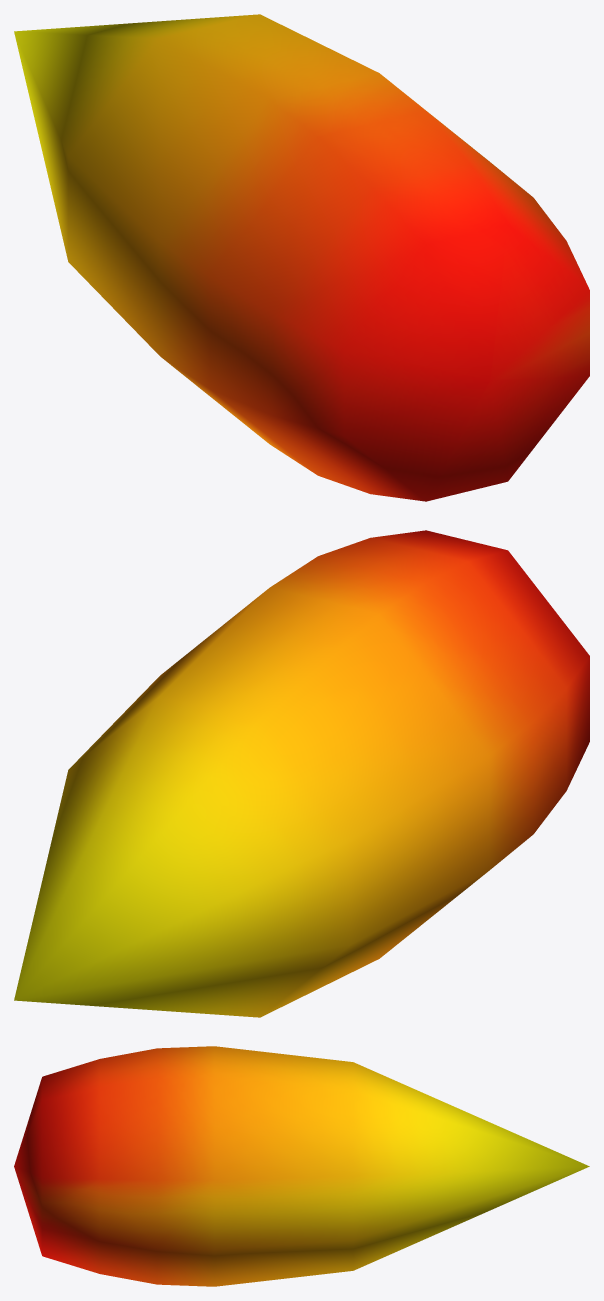
Rendered from thrust.fbx.
3 renders of one model, top to bottom at view 1: azimuth 30°, elevation 25°; view 2: azimuth 150°, elevation 25°; view 3: azimuth 270°, elevation 25°, orthographic. The views are drawn at different scales.
Parts seen in each view (by area): view 1: cube1; view 2: cube1; view 3: cube1.
Part boxes in pixels (bbox=[...]): cube1: bbox=[14, 14, 589, 501]; cube1: bbox=[14, 530, 589, 1017]; cube1: bbox=[14, 1046, 589, 1286].
Bounding box in the file's own units: 7.77 × 7.77 × 19.49.
